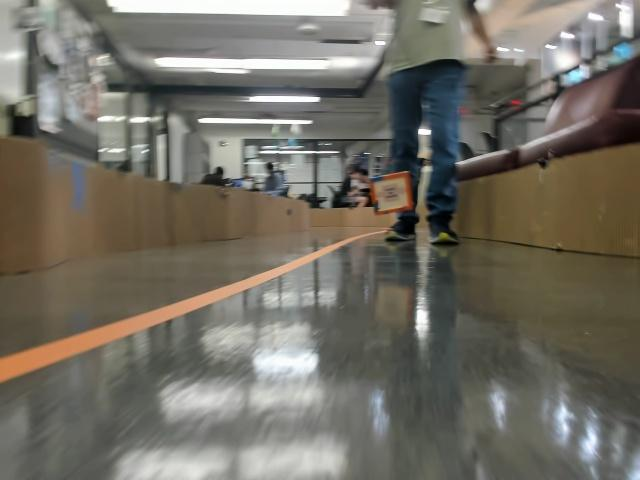Do Not Go Around: (376, 188, 402, 204)
